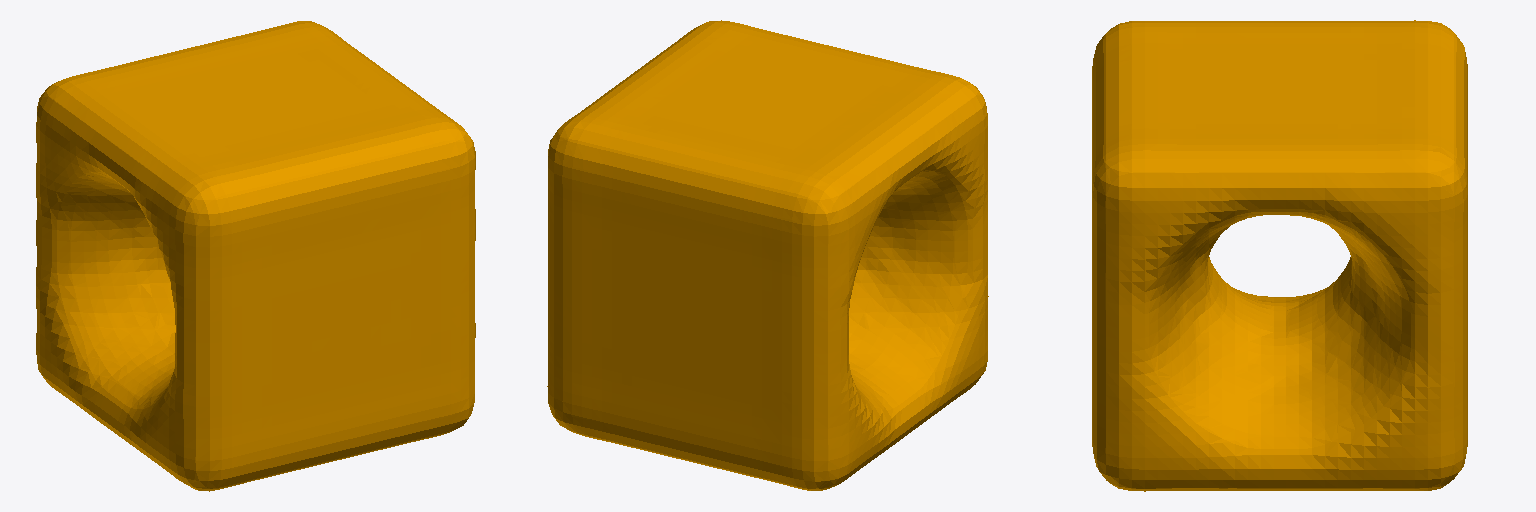
URDF robot description (K02_3):
<?xml version="1.0"?>
<robot name="K02_3">
  <link name="base_link">
    <visual>
      <geometry>
        <mesh filename="../../../../meshes/egad/train/K02_3.obj" />
      </geometry>
    </visual>
  </link>
</robot>

--- Render facts (derived) ---
3 views of the same robot in one strip: view 1: azimuth 30°, elevation 25°; view 2: azimuth 150°, elevation 25°; view 3: azimuth 270°, elevation 25° (orthographic).
Model K02_3 with 1 links and 0 joints (none), rooted at base_link, posed all joints at 0.
Links seen in each view (by area): view 1: base_link; view 2: base_link; view 3: base_link.
Link boxes in pixels (bbox=[...]): base_link: bbox=[36, 21, 475, 491]; base_link: bbox=[547, 20, 988, 490]; base_link: bbox=[1092, 20, 1467, 491].
Bounding box of the posed robot: 0.0602 × 0.06 × 0.06 m (x, y, z).
1 mesh visuals loaded from 1 distinct referenced files (1 OBJ).